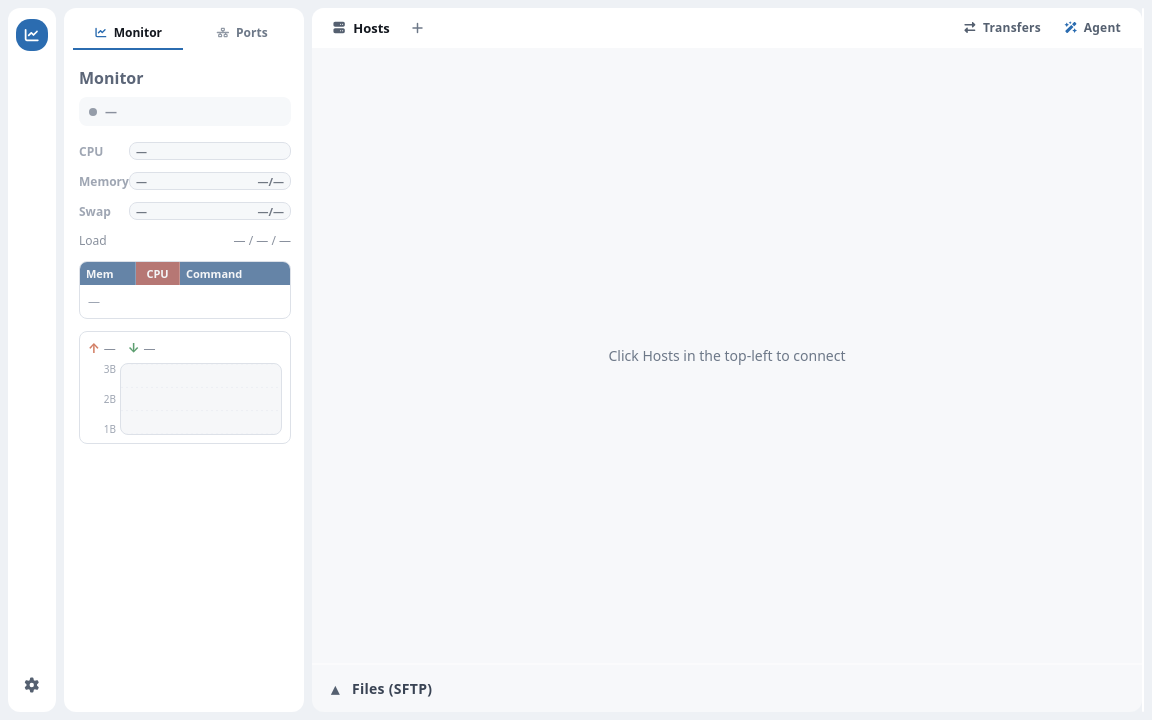
Test: App tab switching › switches the active tab and closing a tab disconnects the session
Click the button "Hosts": (360, 28) [320, 12, 401, 42]
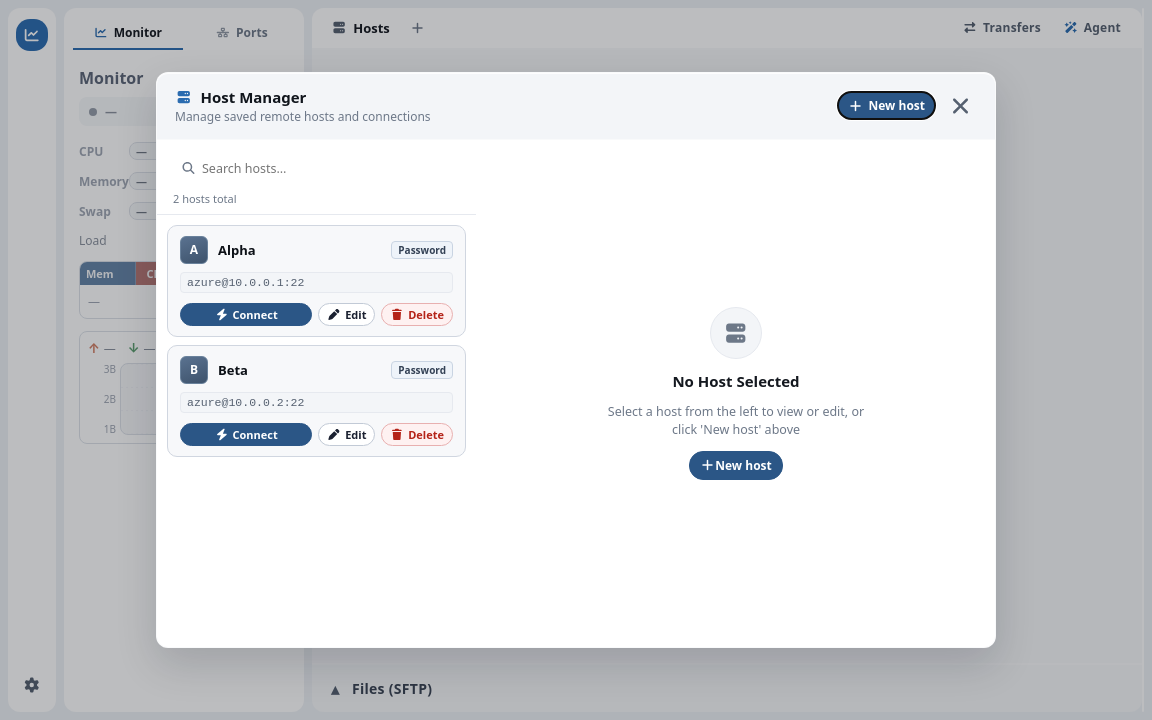
Click the button "Connect" below "Alpha": (246, 314) [180, 303, 312, 326]
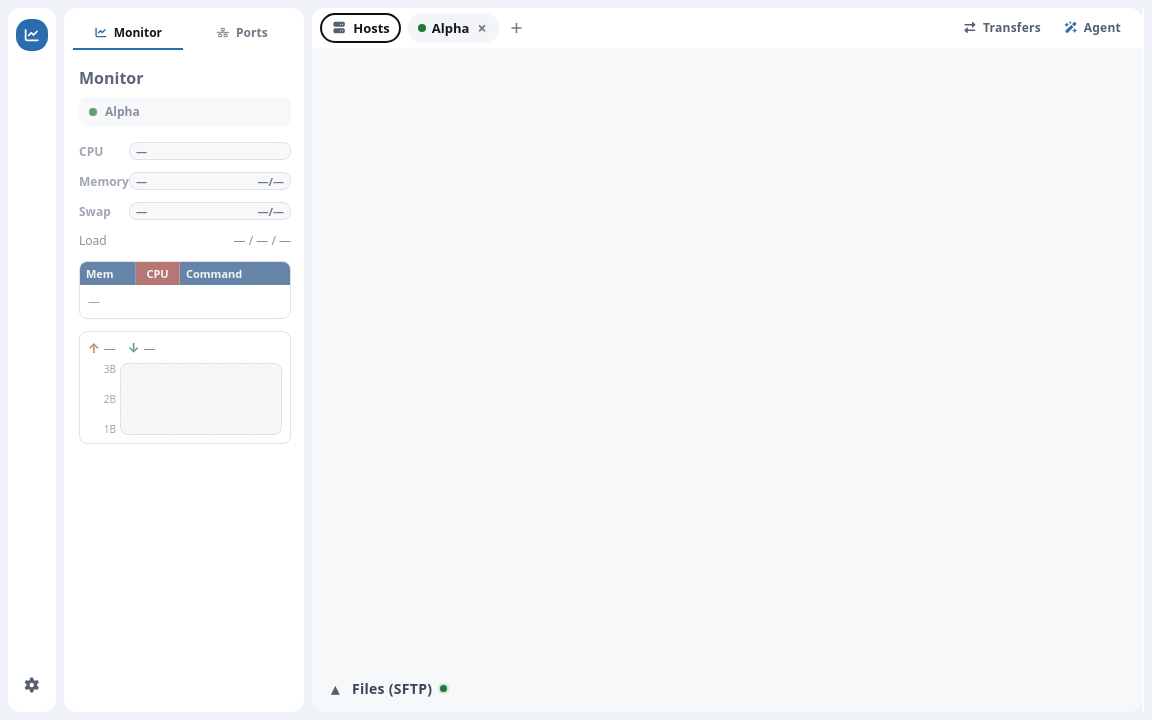
Click the button "Hosts": (360, 28) [320, 12, 401, 42]
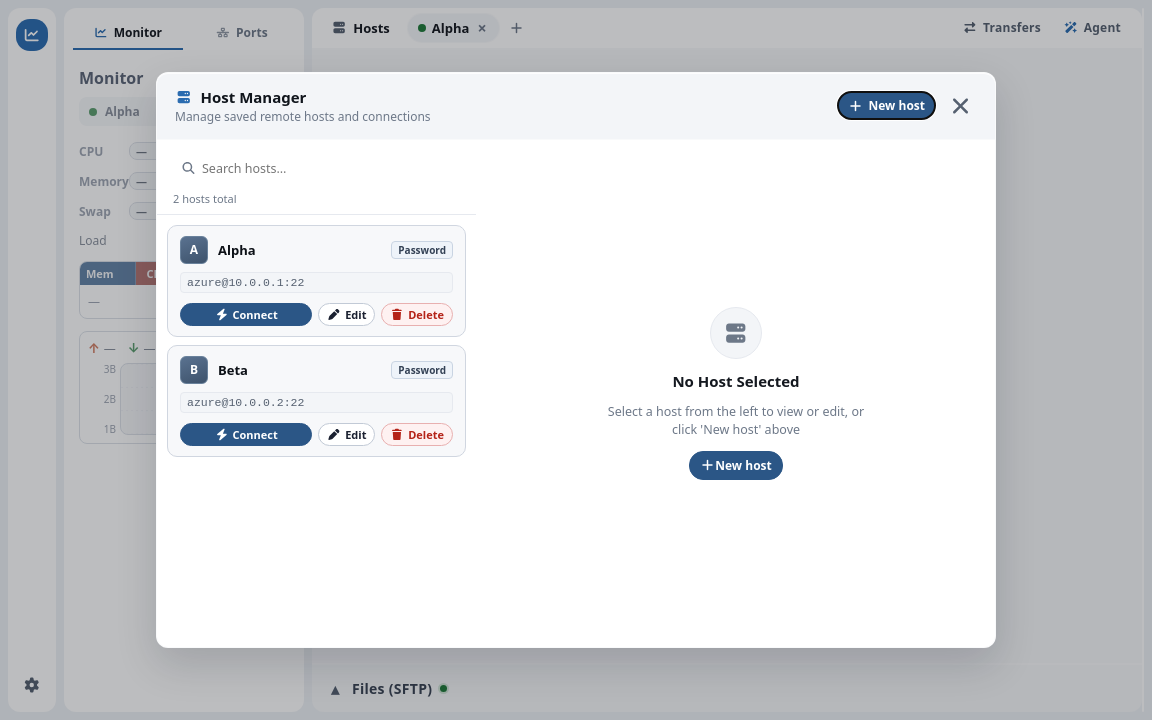
Click the button "Connect" below "Beta": (246, 434) [180, 423, 312, 446]
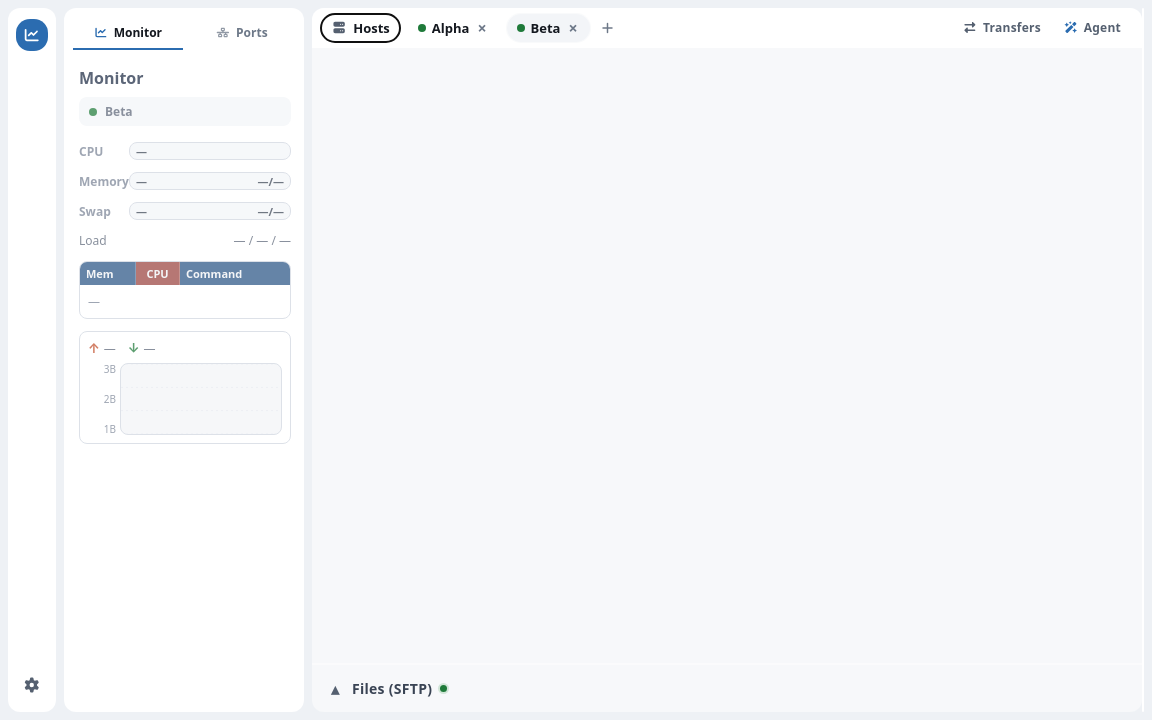
Check: the tab "Alpha ×" is not selected
Click the tab "Alpha ×": (453, 28) [418, 18, 488, 36]
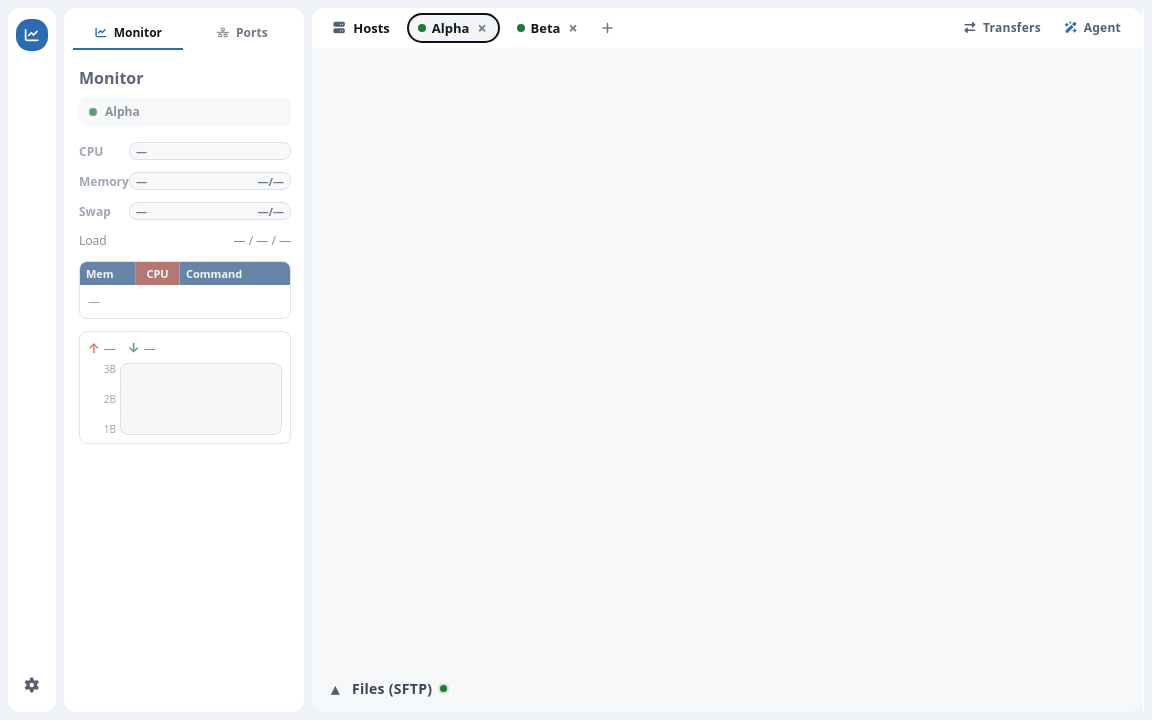
Check: the tab "Alpha ×" is selected, box [407, 12, 500, 42]
Click the button named "Close Beta": (573, 28) [566, 20, 580, 36]
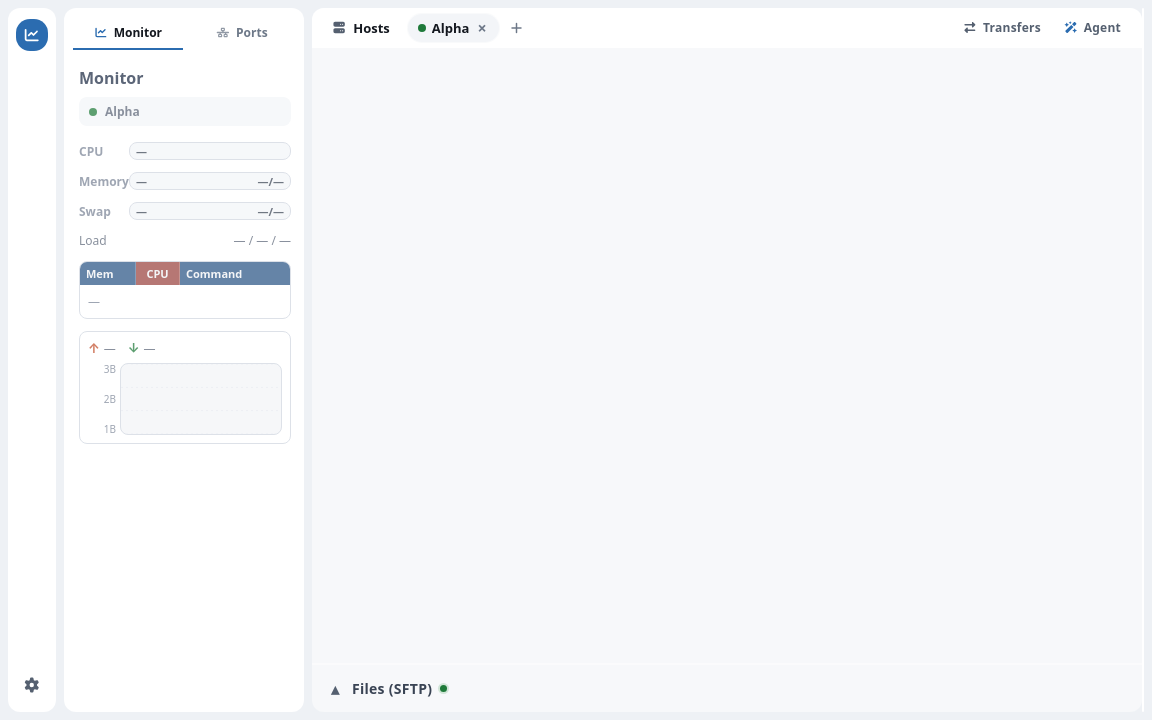
Check: the tab "Beta" is gone
